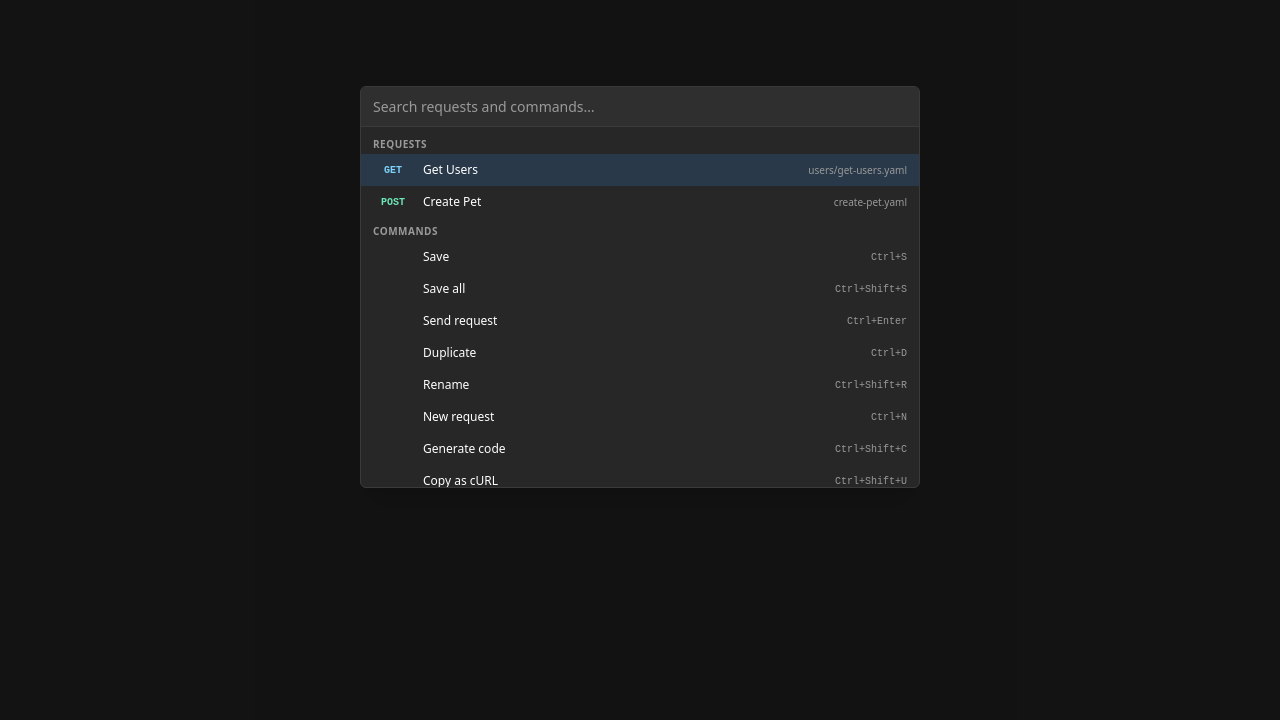
Scenario: CommandPalette › filters with fuzzy score and shows no matches
The width and height of the screenshot is (1280, 720).
Type "pet" into the field with placeholder "Search requests and commands…" at (640, 107), box x1=361 y1=87 x2=919 y2=127
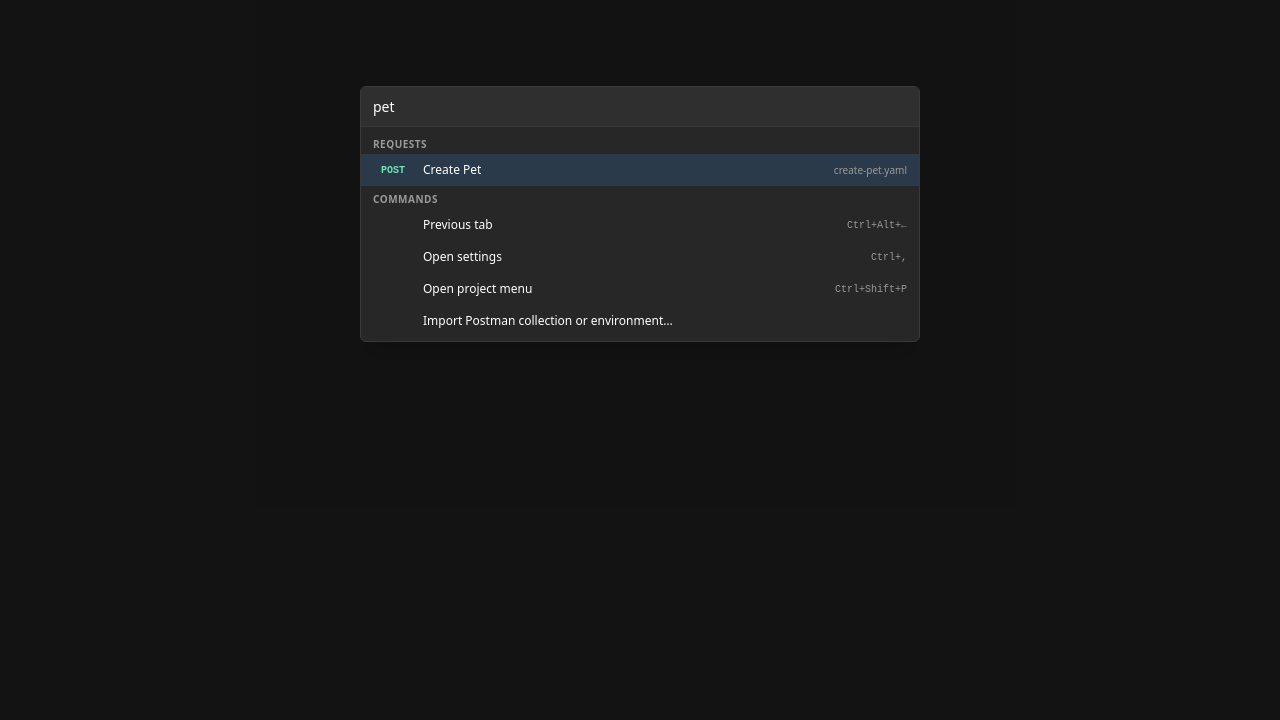
Expected: the text "Create Pet" is shown, x1=423 y1=162 x2=481 y2=178
Now the button "Get Users" is gone
Replace the text in the field with placeholder "Search requests and commands…" with "zzzqqq" at (640, 107), box x1=361 y1=87 x2=919 y2=127
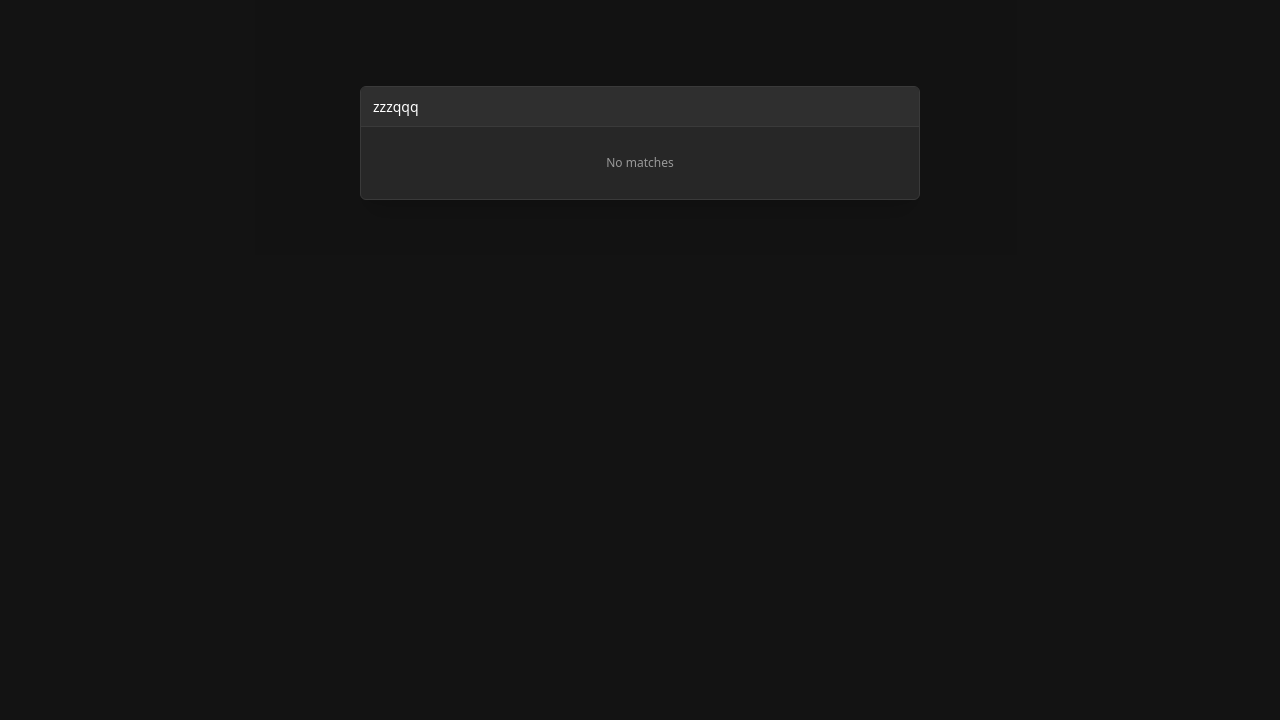
Now the text "No matches" is shown, box x1=606 y1=154 x2=674 y2=171
